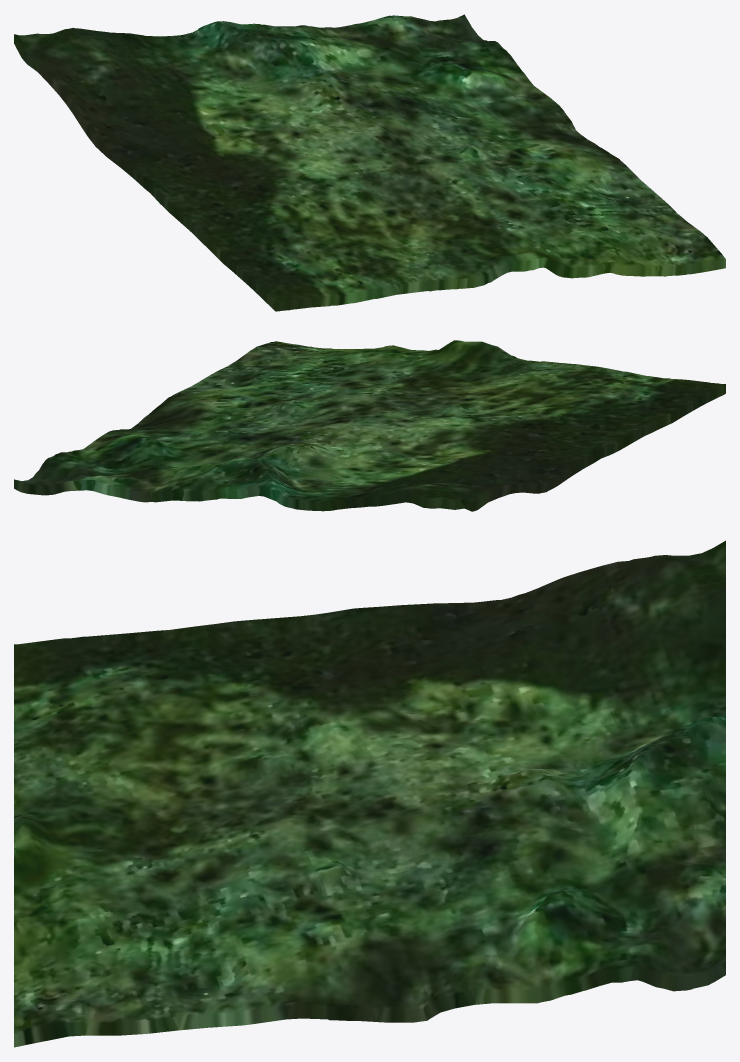
The model's file is z20-167563-405174-h0-yup-uvflip-v3-world.glb.
3 views of the same model, one above another, from view 1: azimuth 30°, elevation 25°; view 2: azimuth 150°, elevation 25°; view 3: azimuth 270°, elevation 25° (orthographic). The views are drawn at different scales.
Size of the model in its own units: 30.16 by 9.76 by 30.32.
1 material, 1 textured.
